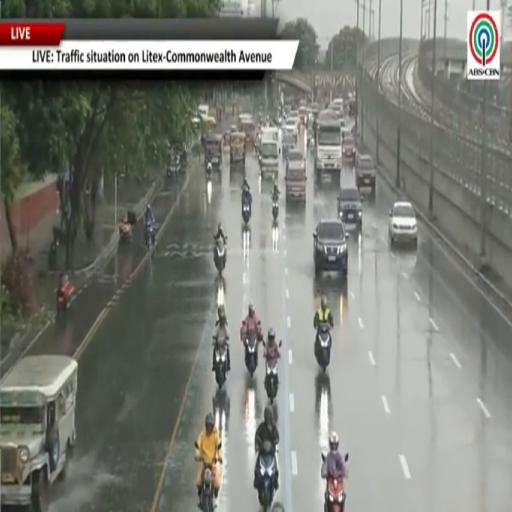car: (313, 218, 348, 277), (389, 201, 417, 247), (337, 185, 362, 230), (355, 153, 376, 193), (342, 133, 356, 163), (286, 149, 305, 169)
jeepney: (0, 356, 77, 511), (205, 134, 223, 167), (230, 133, 245, 168), (240, 119, 254, 150), (202, 117, 217, 136), (239, 114, 253, 131), (298, 106, 308, 125)
motorcycle: (258, 441, 276, 511), (315, 323, 332, 372), (56, 276, 74, 315), (200, 464, 214, 511), (265, 359, 279, 404), (214, 346, 227, 388), (245, 332, 257, 377), (214, 238, 226, 275), (145, 222, 154, 250), (242, 200, 251, 225), (272, 198, 278, 220), (206, 165, 211, 180), (345, 454, 348, 461)
truck: (315, 110, 342, 172)
